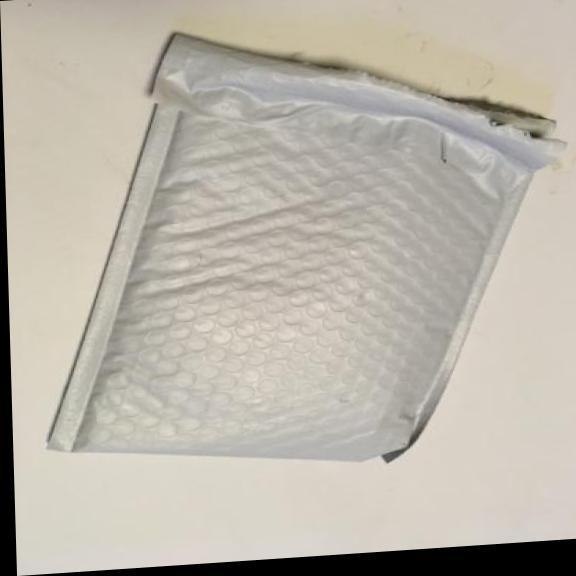Plastik: (23, 0, 572, 490)
